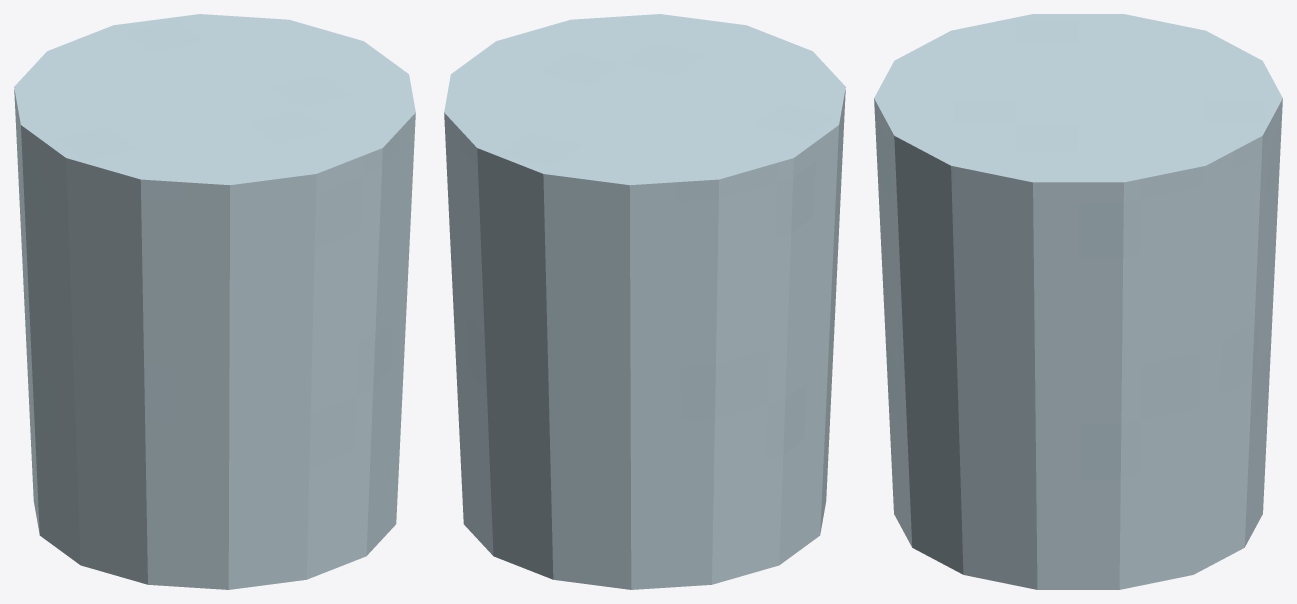
3 renders of one model, left to right at view 1: azimuth 30°, elevation 25°; view 2: azimuth 150°, elevation 25°; view 3: azimuth 270°, elevation 25°, orthographic.
Visible parts, largest first — view 1: whisky; view 2: whisky; view 3: whisky.
Boxes of the visible parts, left/top/right/bottom form: whisky: left=14, top=14, right=415, bottom=589; whisky: left=444, top=14, right=845, bottom=589; whisky: left=874, top=14, right=1282, bottom=589.
Size of the model in its own units: 0.0799 by 0.092 by 0.082.
3 materials, 3 textured.
